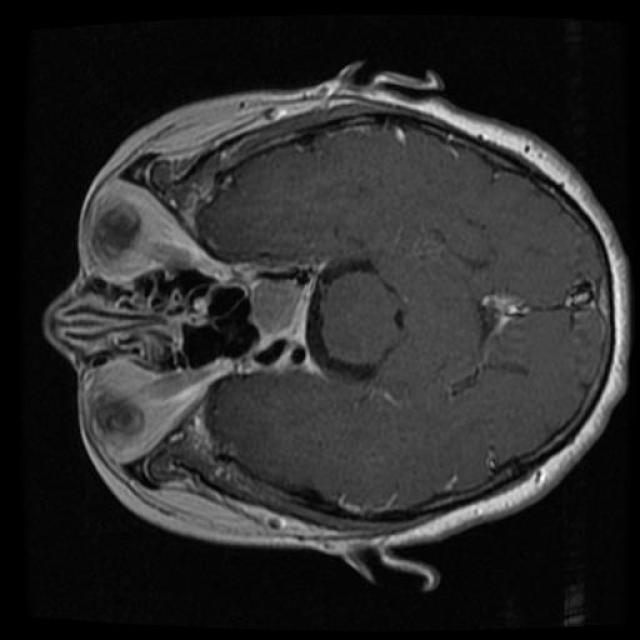Pituitary: (237, 263, 329, 376)
